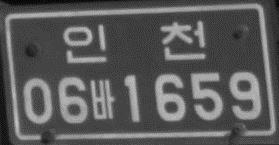0: (22, 76, 54, 126)
1: (120, 72, 143, 125)
5: (188, 71, 223, 123)
6: (153, 72, 187, 124), (55, 75, 90, 125)
9: (228, 70, 263, 123)
바: (89, 77, 117, 121)
인천_D: (63, 19, 207, 65)
